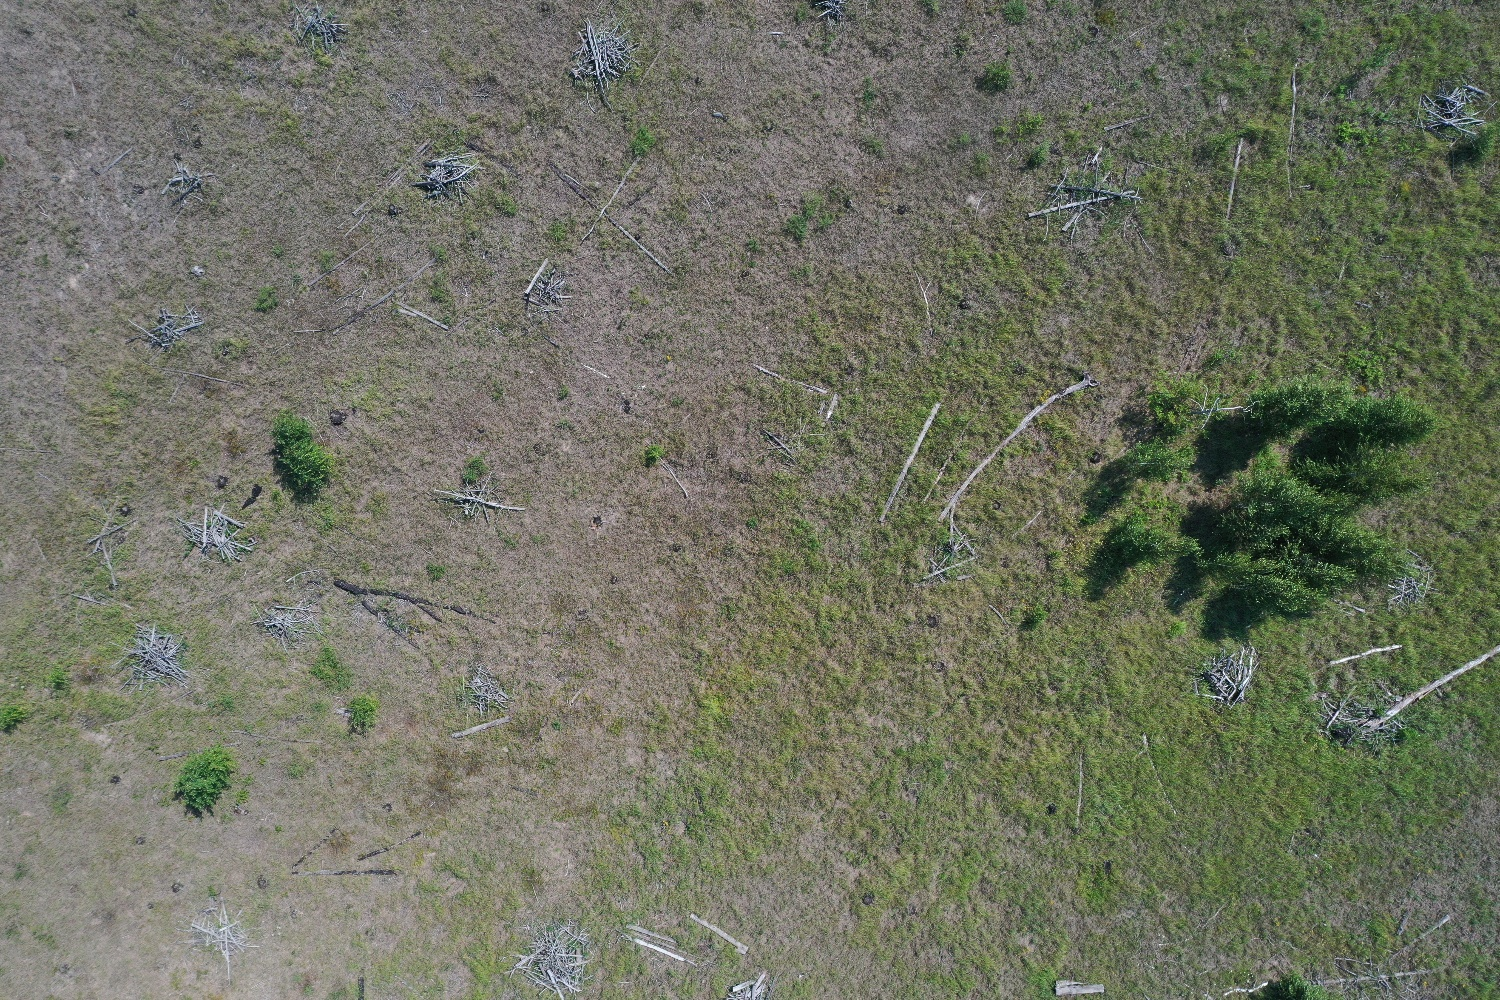branches: (569, 18, 642, 112), (504, 921, 589, 1000), (119, 623, 192, 690), (1415, 79, 1490, 142), (176, 507, 259, 562), (1194, 647, 1260, 710), (412, 153, 485, 203), (126, 304, 204, 350), (434, 481, 525, 521), (289, 1, 350, 52), (525, 258, 573, 314), (162, 158, 214, 206), (458, 669, 511, 714), (250, 606, 319, 641), (809, 1, 848, 25)
